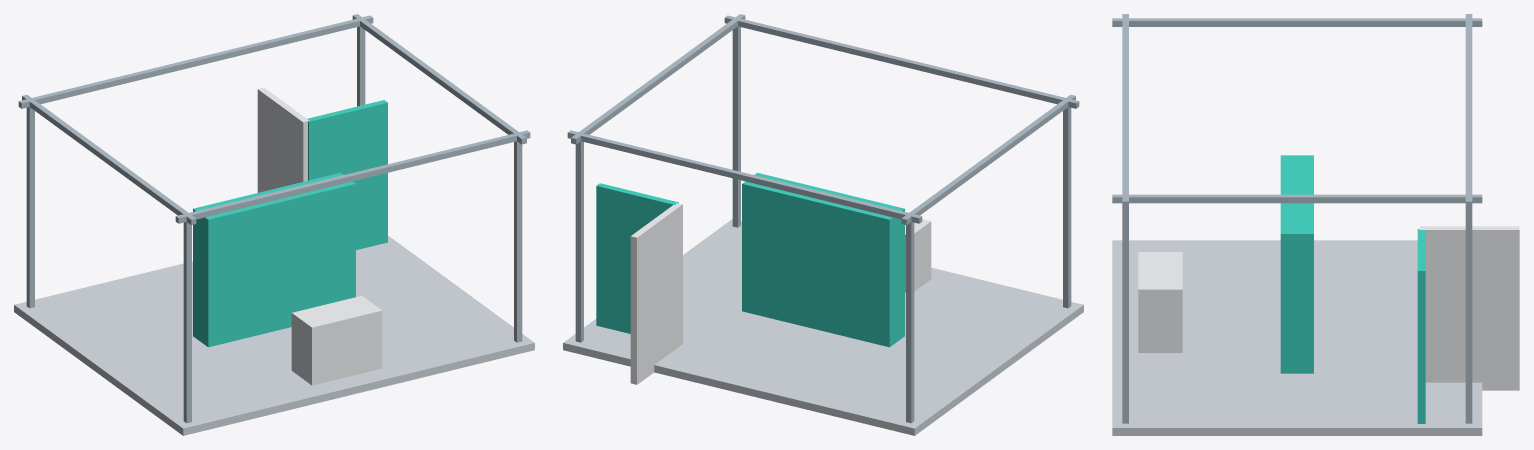
3 renders of one model, left to right at view 1: azimuth 30°, elevation 25°; view 2: azimuth 150°, elevation 25°; view 3: azimuth 270°, elevation 25°, orthographic. The views are drawn at different scales.
Visible parts, largest first — view 1: Exhibition Booth Concept; view 2: Exhibition Booth Concept; view 3: Exhibition Booth Concept.
Boxes of the visible parts, x1,y1,x2,y2 form: Exhibition Booth Concept: (14,14,534,435); Exhibition Booth Concept: (563,14,1083,435); Exhibition Booth Concept: (1112,14,1519,435).
Bounding box in the file's own units: 6 × 3.49 × 5.51.
